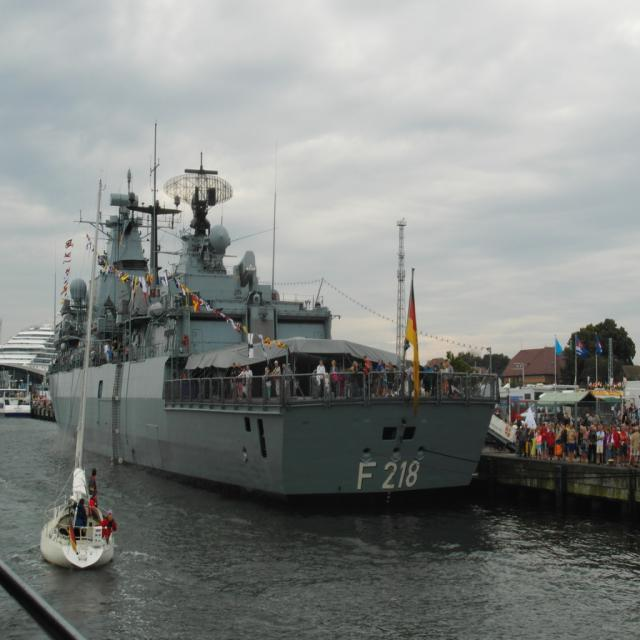Boat: (32, 120, 504, 510), (37, 173, 122, 572)
